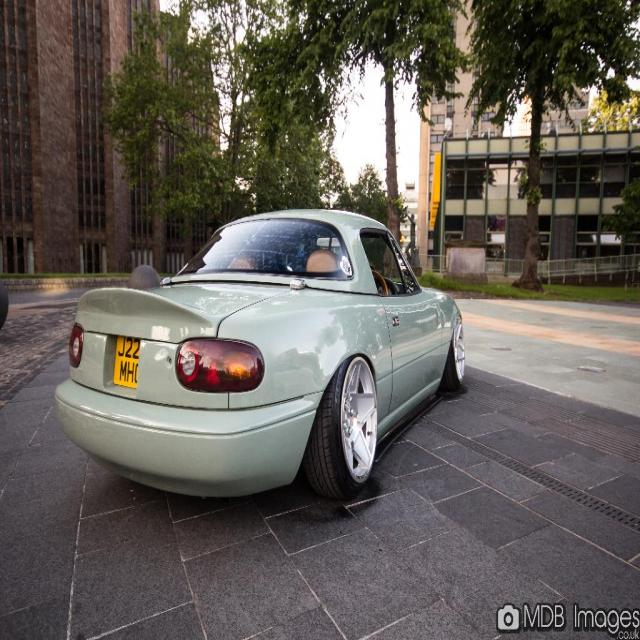car: (54, 208, 468, 503)
